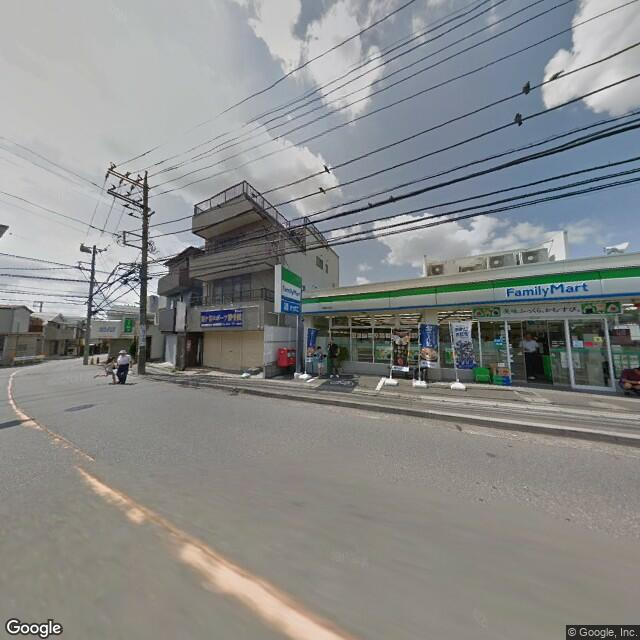family_mart: (302, 264, 639, 321), (505, 276, 590, 302), (278, 265, 303, 305)
